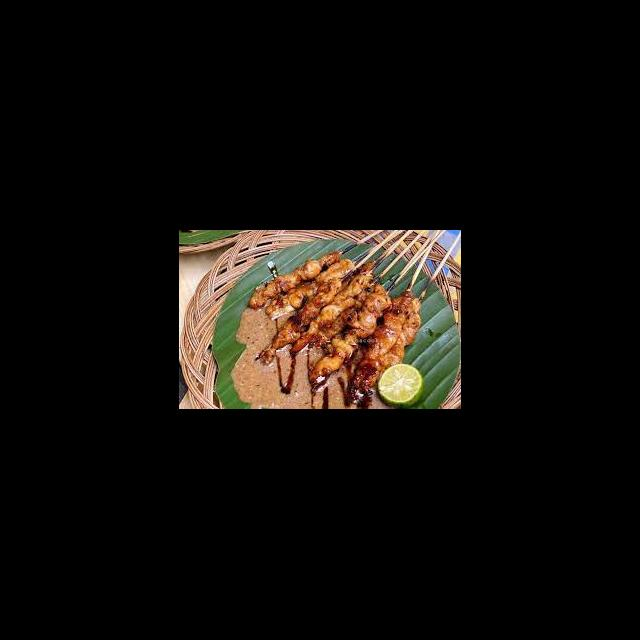food_waste: (268, 291, 387, 389)
